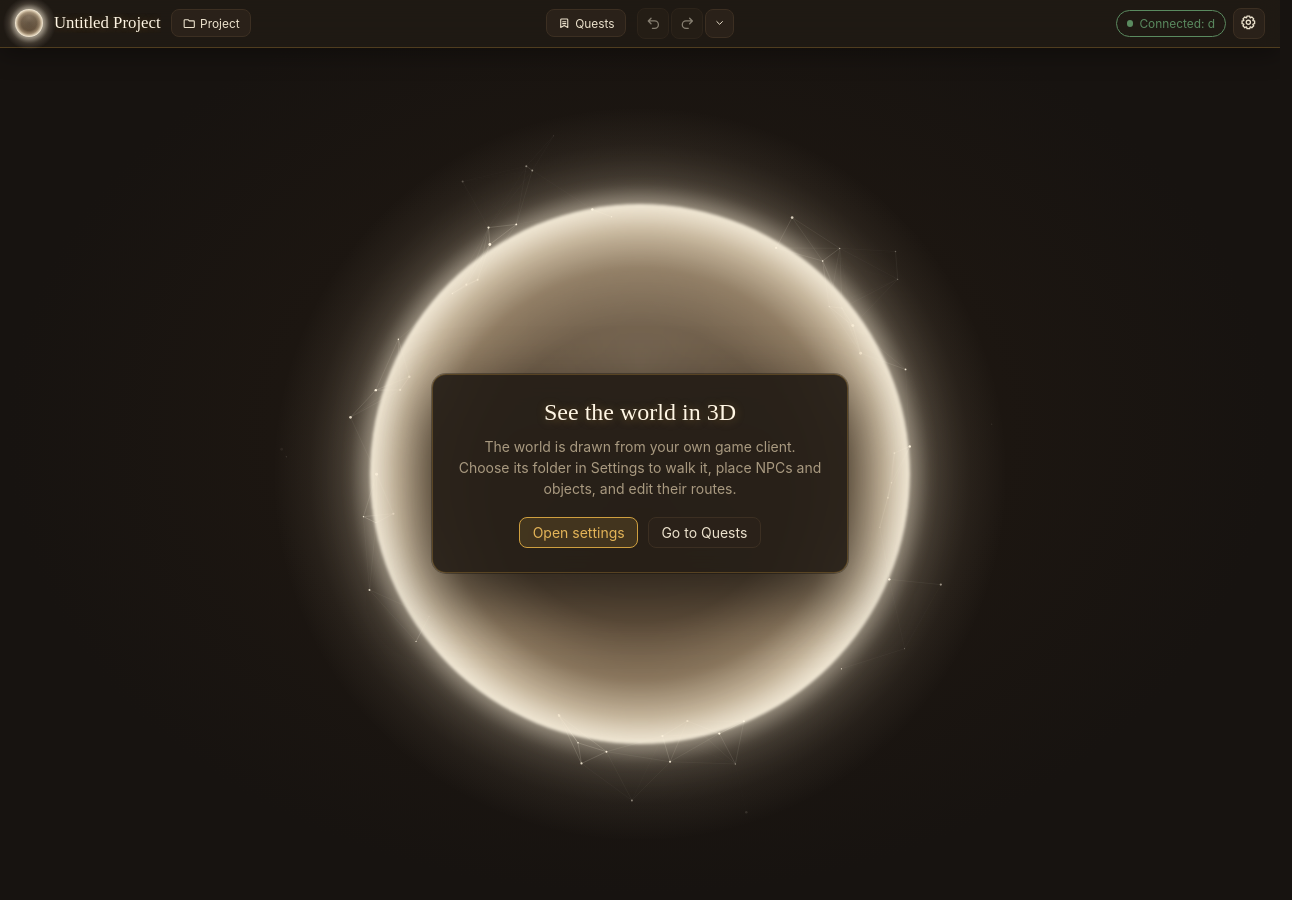
Test case: chain dock error reporting › shows a failed node removal
Step 1. Click the button "Quests" → (586, 23), box [546, 10, 626, 37]
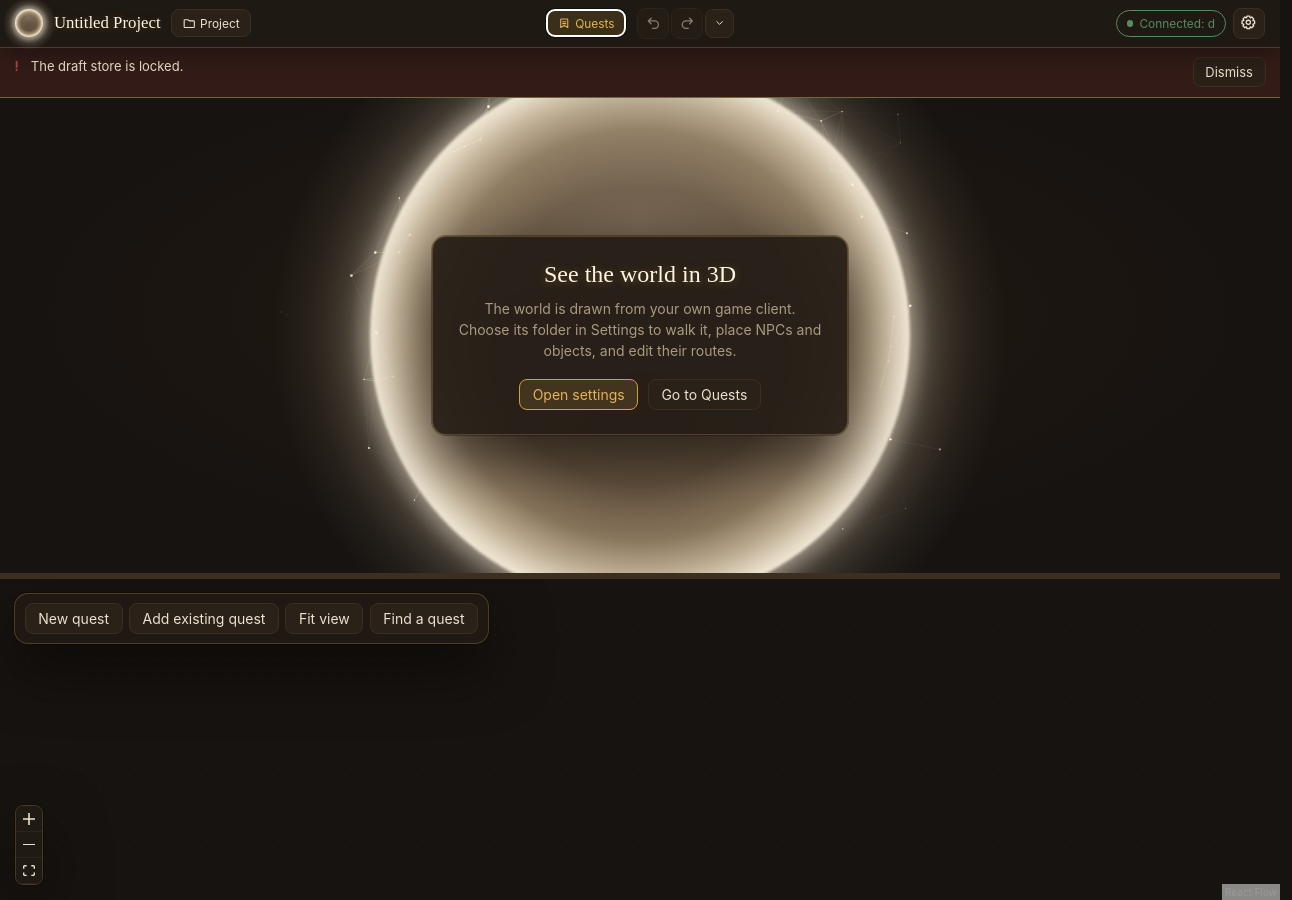
Result: the message "! The draft store is locked. Dismiss" is shown at [0, 48, 1280, 98]
